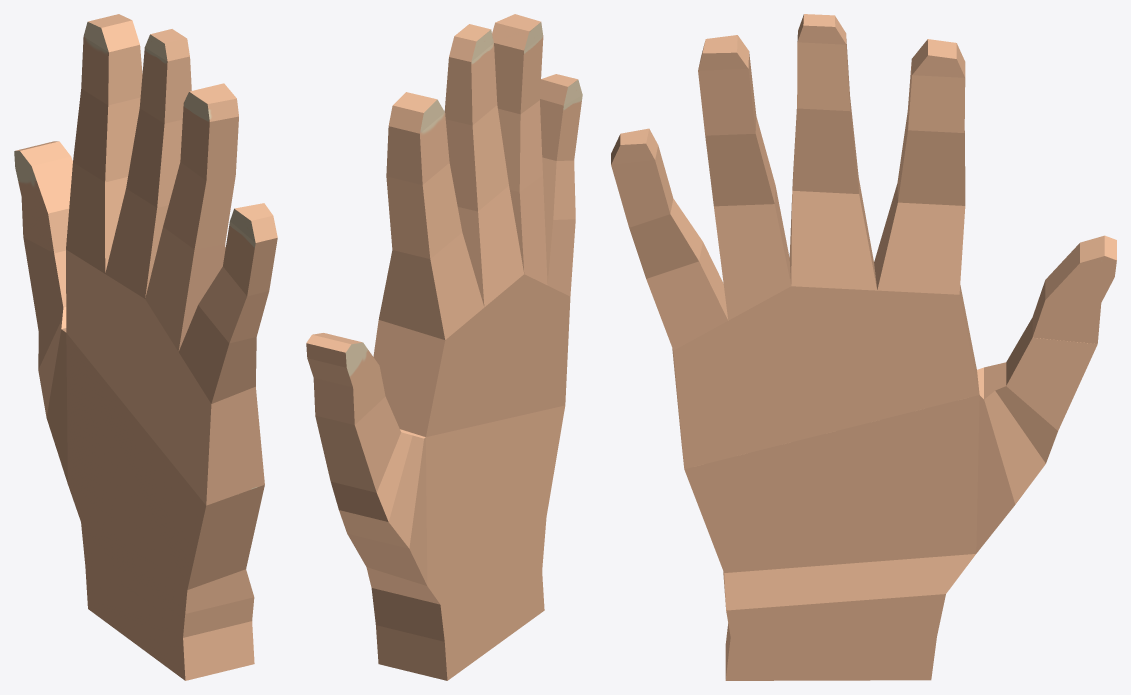
Rendered from hand.fbx.
The picture shows the model from 3 angles, left to right: view 1: azimuth 30°, elevation 25°; view 2: azimuth 150°, elevation 25°; view 3: azimuth 270°, elevation 25°; orthographic projection. The views are drawn at different scales.
Visible parts, largest first — view 1: Cube; view 2: Cube; view 3: Cube.
Part boxes in pixels (bbox=[...]): Cube: bbox=[14, 14, 277, 680]; Cube: bbox=[306, 14, 582, 680]; Cube: bbox=[611, 14, 1116, 680].
Size of the model in its own units: 157 by 1146 by 821.
1 material, 1 textured.
